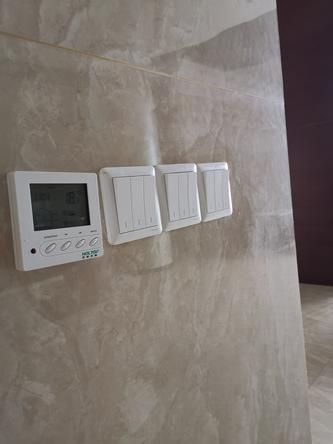switch: (109, 172, 136, 237), (128, 171, 149, 233), (140, 172, 162, 228), (160, 168, 182, 224), (184, 167, 202, 217), (201, 168, 218, 215), (177, 170, 192, 221), (213, 167, 226, 212)
